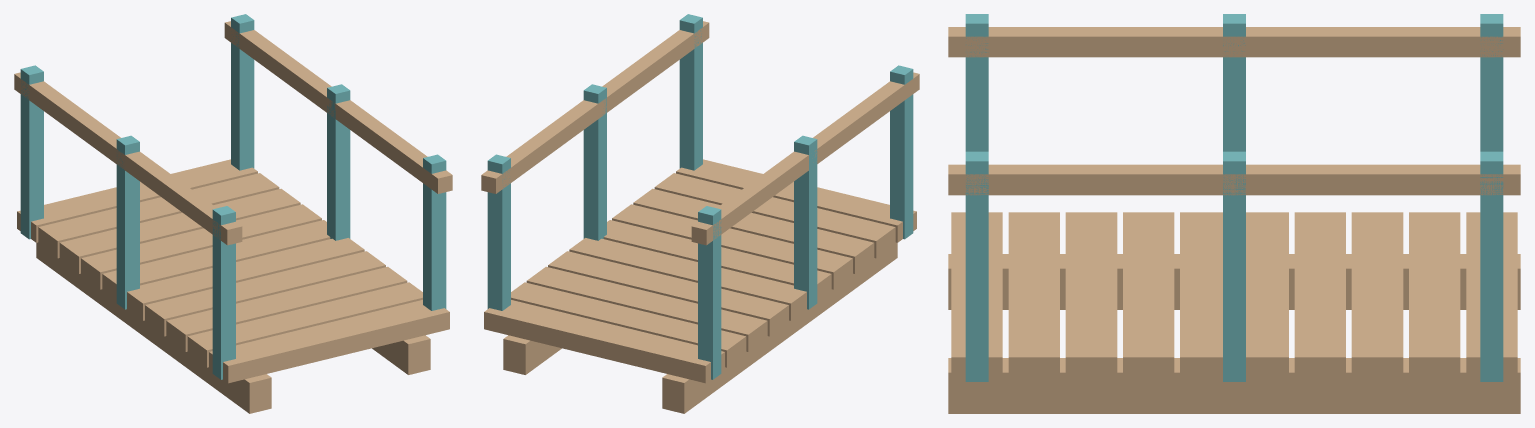
File: meadow-courier-creek-footbridge__30.glb
The picture shows the model from 3 angles, left to right: view 1: azimuth 30°, elevation 25°; view 2: azimuth 150°, elevation 25°; view 3: azimuth 270°, elevation 25°; orthographic projection. The views are drawn at different scales.
Parts seen in each view (by area): view 1: meadow-courier-footbridge; view 2: meadow-courier-footbridge; view 3: meadow-courier-footbridge.
Part boxes in pixels (bbox=[...]): meadow-courier-footbridge: bbox=[14, 14, 452, 413]; meadow-courier-footbridge: bbox=[481, 14, 919, 413]; meadow-courier-footbridge: bbox=[948, 14, 1520, 413].
Size of the model in its own units: 1.22 by 1.03 by 2.
